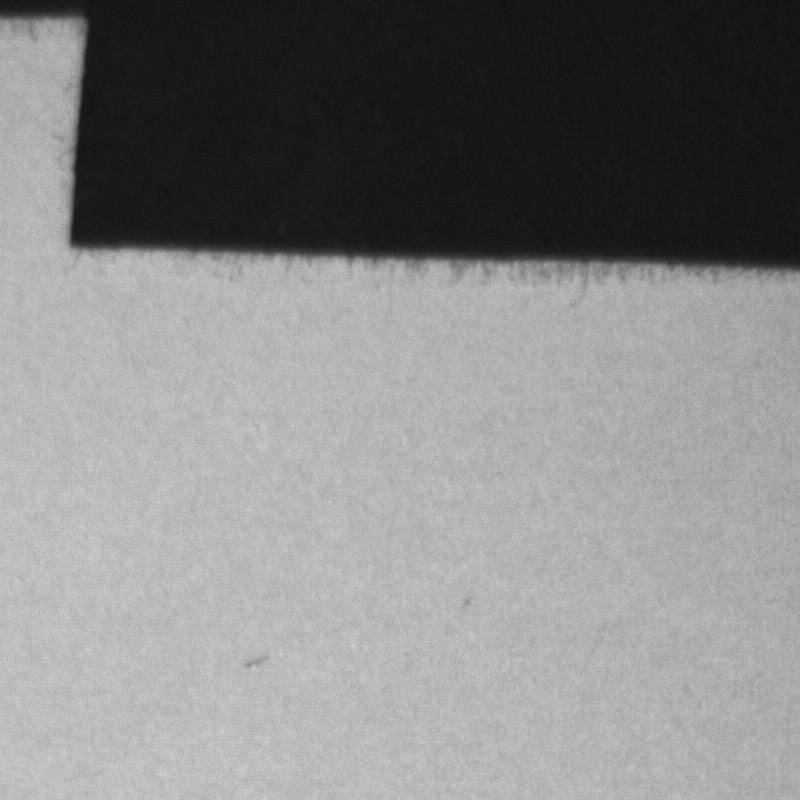defect: (233, 654, 272, 677), (456, 590, 469, 608)
